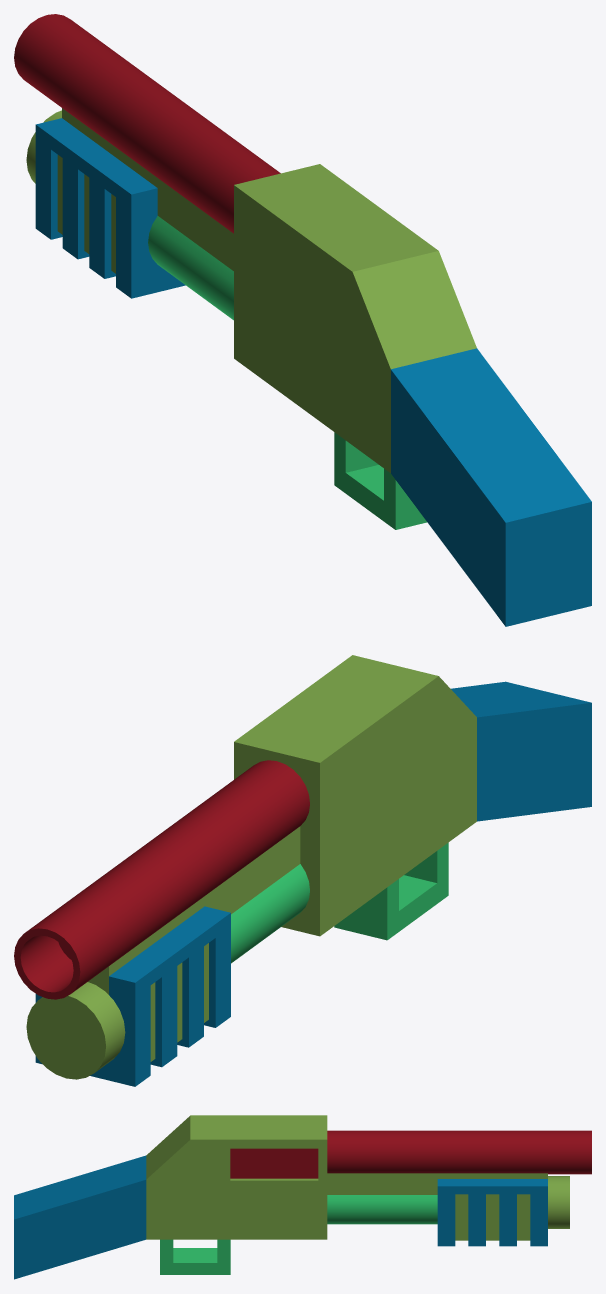
The model's file is GEAR_SHOTGUN.fbx.
3 renders of one model, top to bottom at view 1: azimuth 30°, elevation 25°; view 2: azimuth 150°, elevation 25°; view 3: azimuth 270°, elevation 25°, orthographic. The views are drawn at different scales.
Visible parts, largest first — view 1: shotgun; view 2: shotgun; view 3: shotgun.
Part boxes in pixels (x1,y1,x2,y2): shotgun: (14,14,591,626); shotgun: (14,655,591,1086); shotgun: (14,1115,591,1279).
Bounding box in the file's own units: 165 × 386 × 1444.
